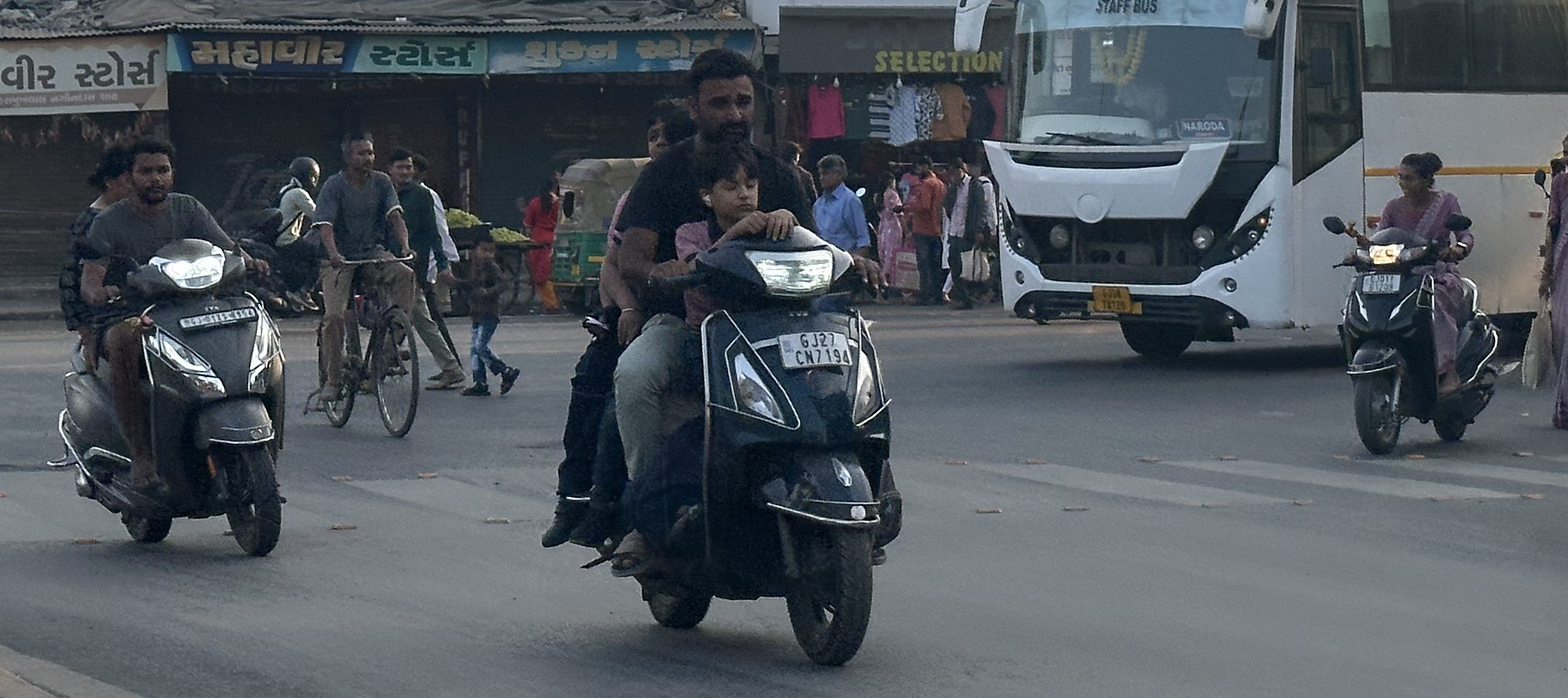BikeWithRider: (564, 24, 940, 674), (43, 105, 330, 579), (1312, 116, 1513, 464), (199, 127, 380, 323)
Helmet: (285, 155, 323, 197)
NoHelmet: (688, 46, 767, 145), (687, 145, 773, 225), (92, 144, 145, 210), (129, 141, 175, 205), (1389, 151, 1445, 202), (643, 105, 689, 162)
